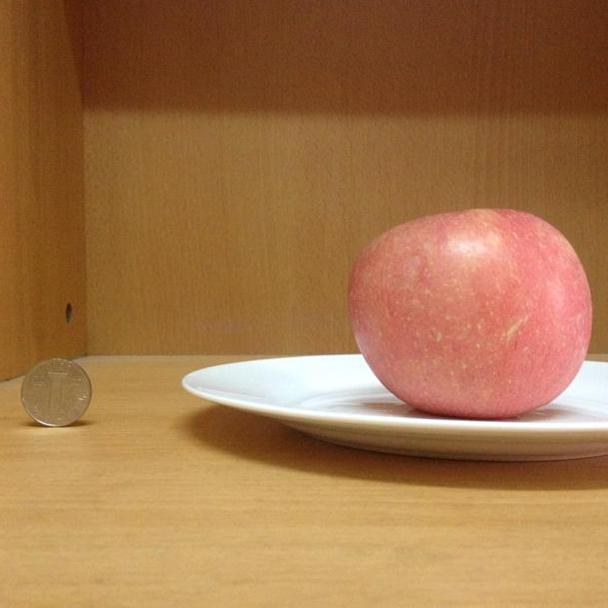apple: (344, 204, 596, 421)
